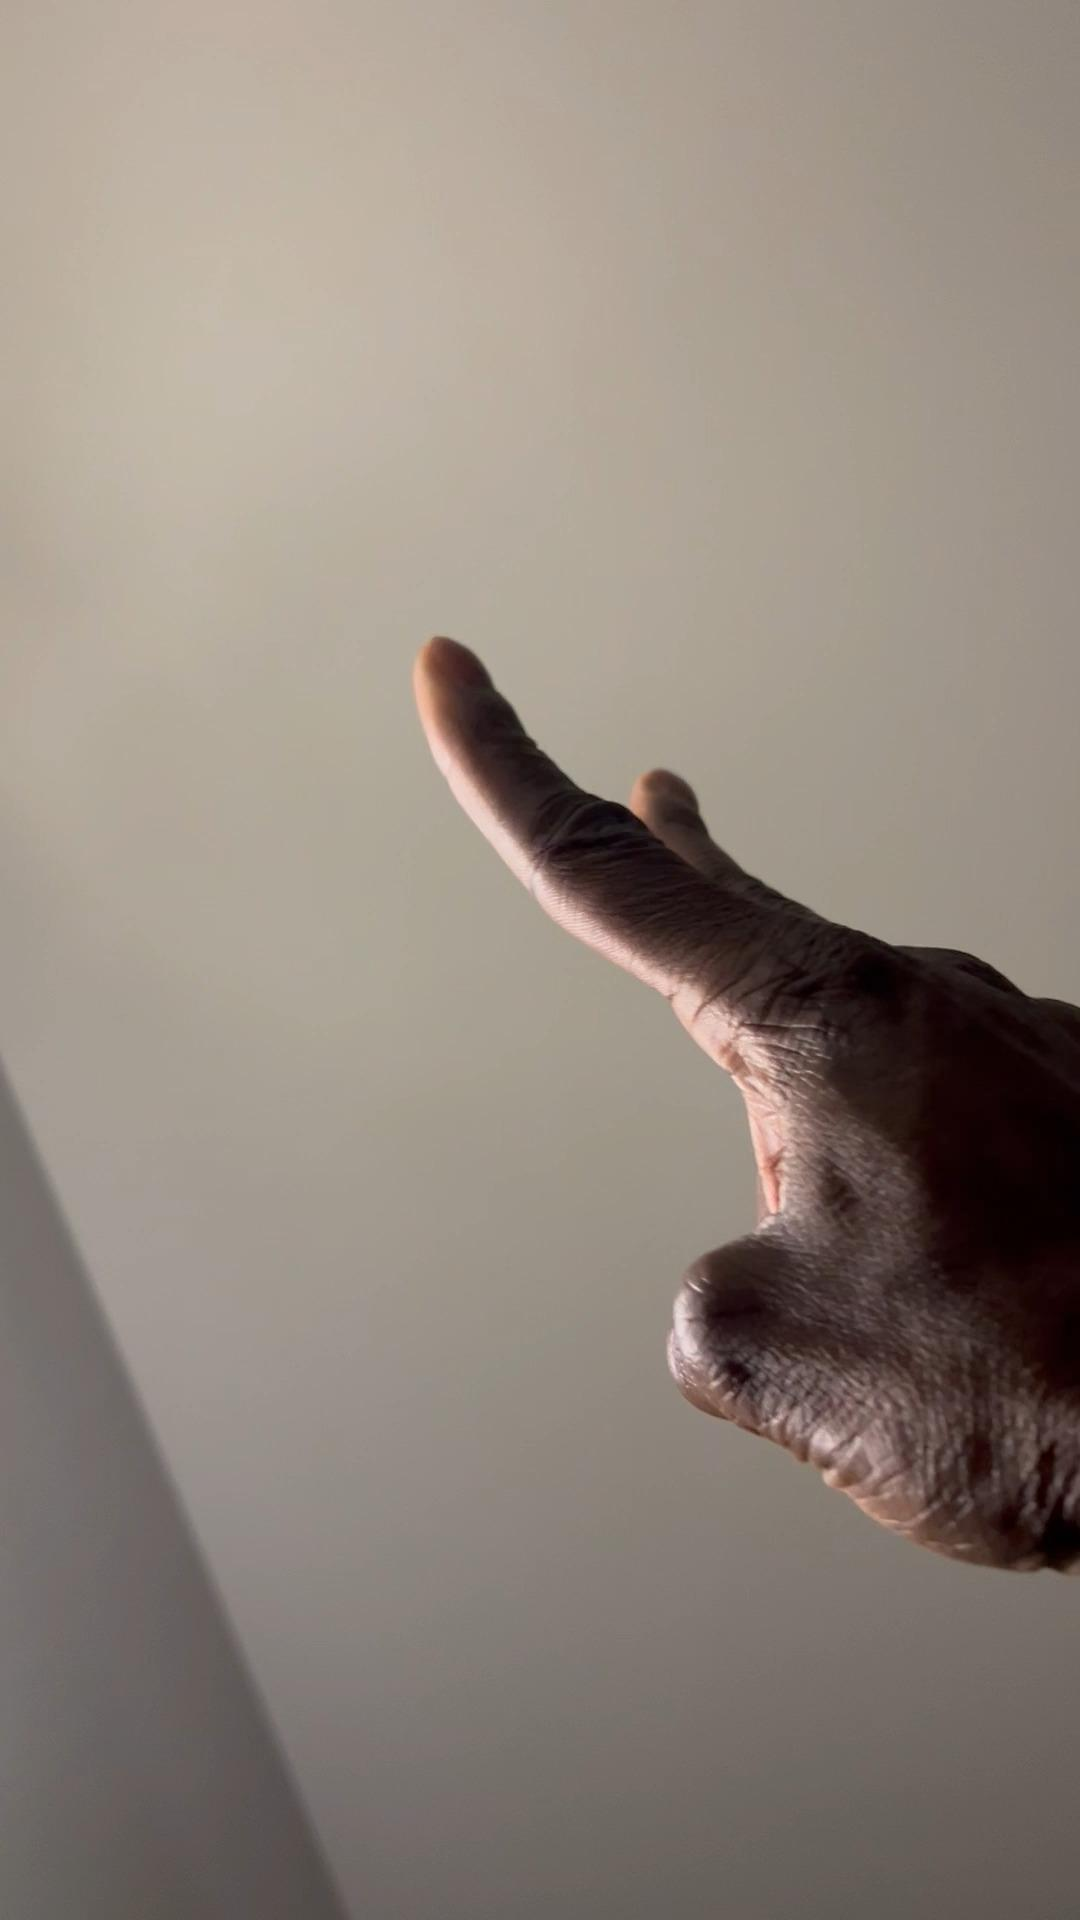Scissors: (413, 626, 1080, 1581)
